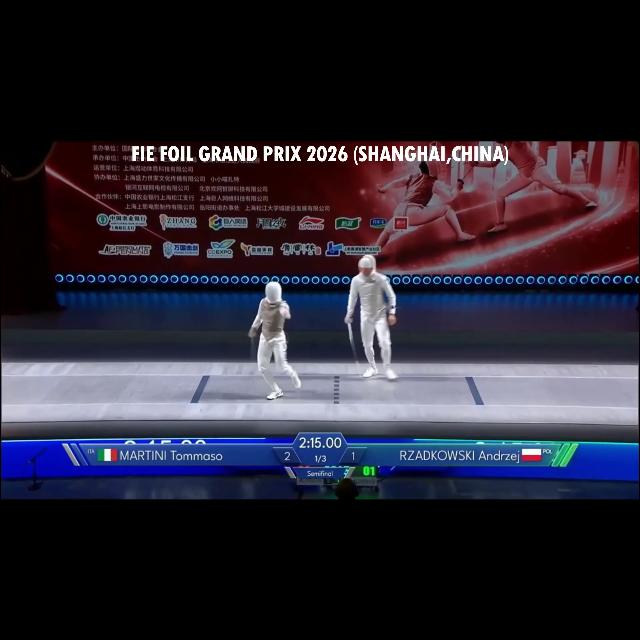blade: (341, 314, 363, 378), (245, 328, 258, 377)
